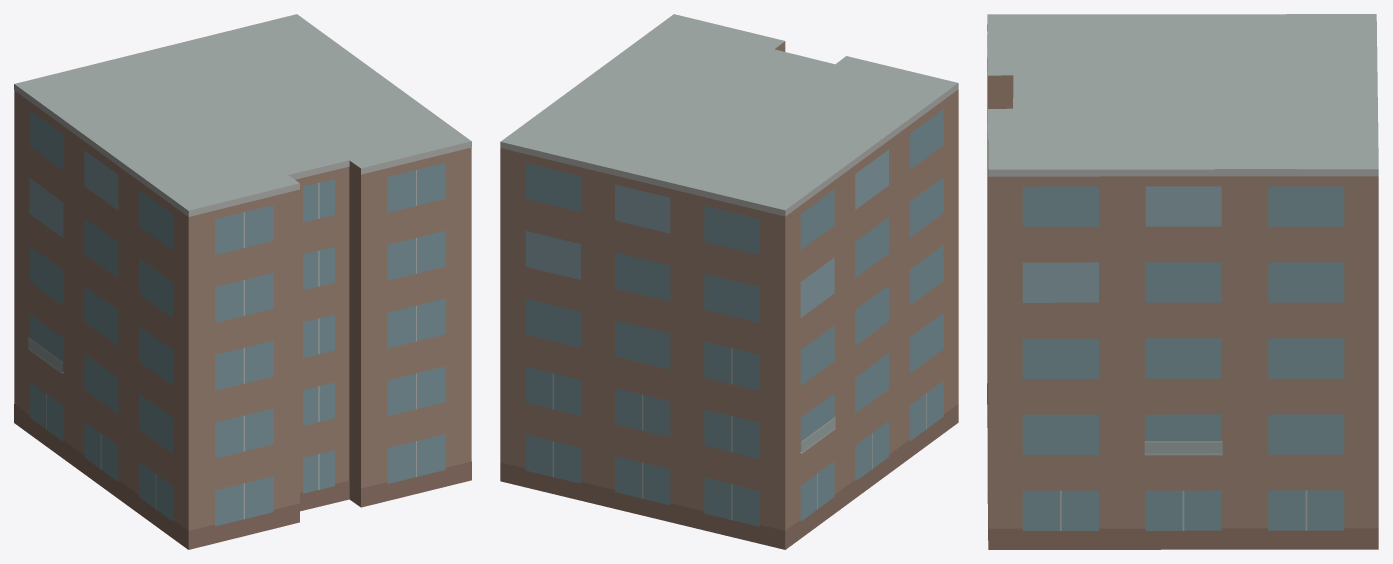
The model's file is survey-upis-32856465.glb.
3 views of the same model, side by side, from view 1: azimuth 30°, elevation 25°; view 2: azimuth 150°, elevation 25°; view 3: azimuth 270°, elevation 25° (orthographic). The views are drawn at different scales.
Parts seen in each view (by area): view 1: survey-upis-32856465.tmp; view 2: survey-upis-32856465.tmp; view 3: survey-upis-32856465.tmp.
Boxes of the visible parts, box(x1,y1,x2,y2) form: survey-upis-32856465.tmp: box(14, 14, 471, 549); survey-upis-32856465.tmp: box(500, 14, 958, 549); survey-upis-32856465.tmp: box(987, 14, 1378, 549).
Size of the model in its own units: 11.83 by 13.4 by 12.52.
